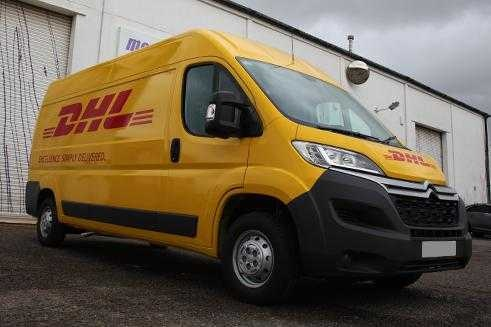van: (25, 28, 472, 305)
